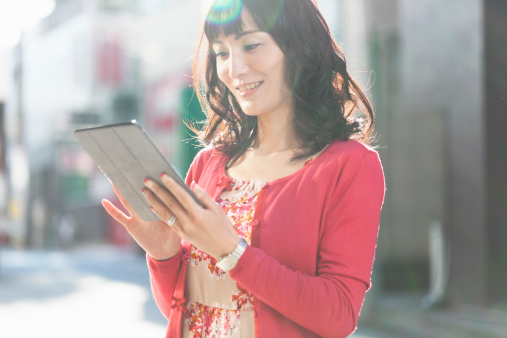em pe: (135, 0, 398, 338)
